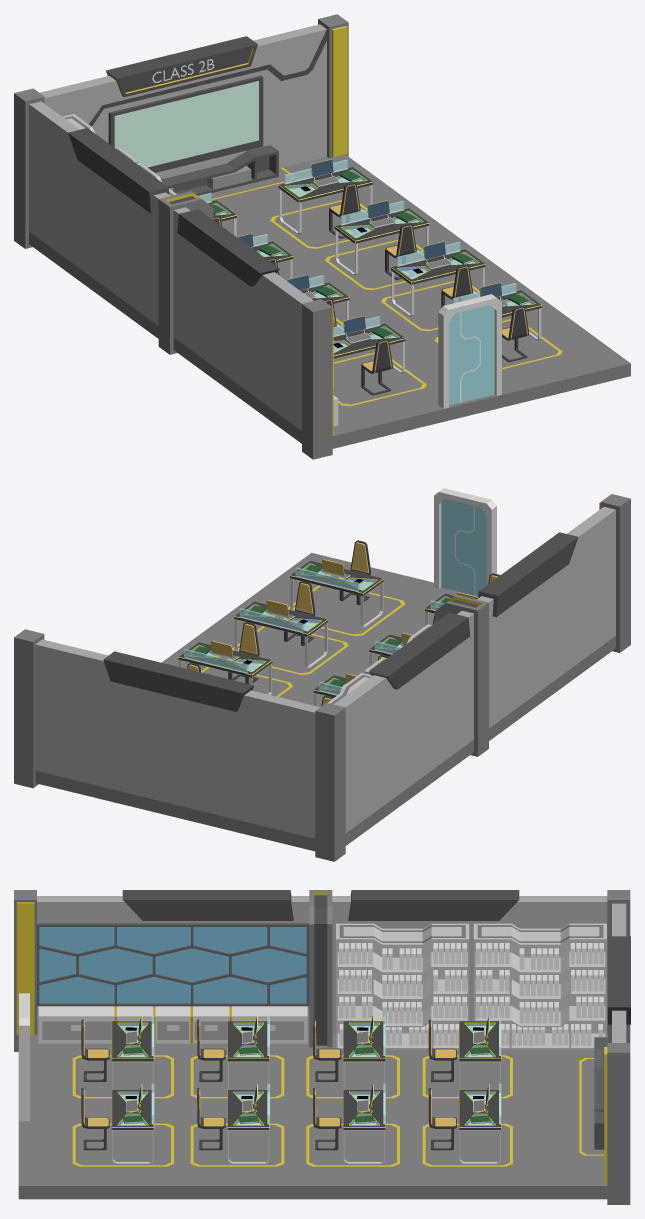
Rendered from classroom lobby.fbx.
3 views of the same model, one above another, from view 1: azimuth 30°, elevation 25°; view 2: azimuth 150°, elevation 25°; view 3: azimuth 270°, elevation 25° (orthographic). The views are drawn at different scales.
Parts seen in each view (by area): view 1: floor, wall, wall.001, Whiteboard, pillar.002, pillar.004, door, pillar.003, pillar.005, pillar, pillar.006, shelf.001 (+11 smaller); view 2: wall.001, wall, floor, pillar.001, pillar.004, door, pillar, pillar.005, pillar.003, pillar.006, pillar.002, Door frame (+10 smaller); view 3: floor, window, cabinet, wall, shelf, pillar.005, pillar.003, pillar, pillar.006, pillar.002, pillar.004, Table.006|Cube|Dupli| (+19 smaller).
Boxes of the visible parts, left/top/right/bottom form: floor: left=29, top=154, right=630, bottom=448; wall: left=29, top=101, right=313, bottom=430; wall.001: left=39, top=24, right=326, bottom=179; Whiteboard: left=108, top=75, right=263, bottom=172; pillar.002: left=302, top=299, right=333, bottom=459; pillar.004: left=106, top=36, right=257, bottom=97; door: left=449, top=305, right=494, bottom=405; pillar.003: left=68, top=128, right=169, bottom=213; pillar.005: left=177, top=209, right=279, bottom=286; pillar: left=318, top=14, right=348, bottom=158; pillar.006: left=158, top=191, right=213, bottom=354; shelf.001: left=161, top=145, right=278, bottom=195; wall.001: left=35, top=639, right=319, bottom=838; wall: left=334, top=506, right=615, bottom=833; floor: left=35, top=552, right=615, bottom=851; pillar.001: left=315, top=703, right=345, bottom=861; pillar.004: left=103, top=651, right=254, bottom=711; door: left=441, top=499, right=486, bottom=596; pillar: left=14, top=629, right=44, bottom=788; pillar.005: left=478, top=532, right=578, bottom=617; pillar.003: left=369, top=612, right=470, bottom=689; pillar.006: left=434, top=595, right=488, bottom=756; pillar.002: left=599, top=494, right=630, bottom=652; Door frame: left=434, top=488, right=496, bottom=588; floor: left=18, top=1033, right=607, bottom=1199; window: left=37, top=923, right=309, bottom=1006; cabinet: left=336, top=923, right=606, bottom=1049; wall: left=37, top=896, right=607, bottom=1033; shelf: left=38, top=1006, right=307, bottom=1043; pillar.005: left=122, top=890, right=293, bottom=920; pillar.003: left=348, top=890, right=519, bottom=920; pillar: left=604, top=1043, right=630, bottom=1204; pillar.006: left=309, top=890, right=332, bottom=1047; pillar.002: left=14, top=890, right=36, bottom=1051; pillar.004: left=608, top=936, right=630, bottom=1024; Table.006|Cube|Dupli|: left=111, top=1021, right=154, bottom=1061.
Size of the model in its own units: 1330 by 580 by 2132.
